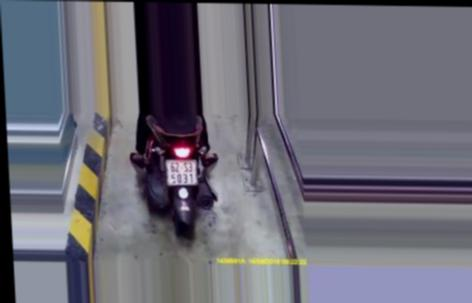License_Plate: (164, 156, 199, 189)
